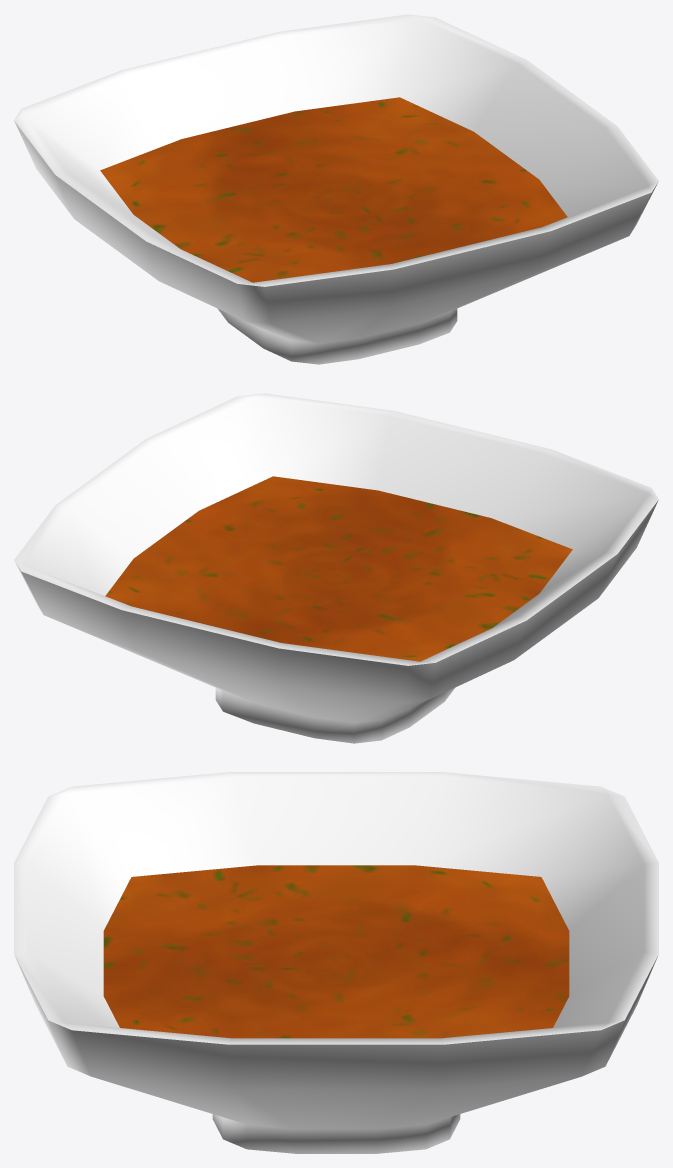
Rendered from TomatoSoup.fbx.
3 renders of one model, top to bottom at view 1: azimuth 30°, elevation 25°; view 2: azimuth 150°, elevation 25°; view 3: azimuth 270°, elevation 25°, orthographic. The views are drawn at different scales.
Visible parts, largest first — view 1: TomatoSoup; view 2: TomatoSoup; view 3: TomatoSoup.
Boxes of the visible parts, bbox=[...] form: TomatoSoup: bbox=[14, 14, 658, 364]; TomatoSoup: bbox=[14, 393, 658, 743]; TomatoSoup: bbox=[14, 772, 658, 1153].
Bounding box in the file's own units: 42.14 × 13.91 × 42.14.
2 materials, 2 textured.
